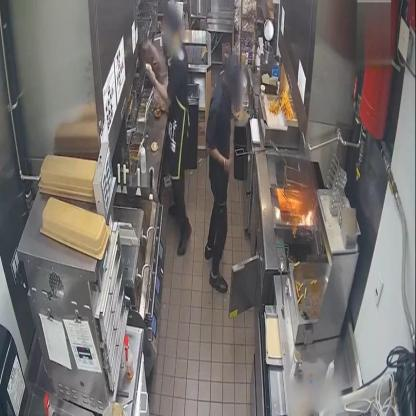fire: (298, 206, 316, 228)
